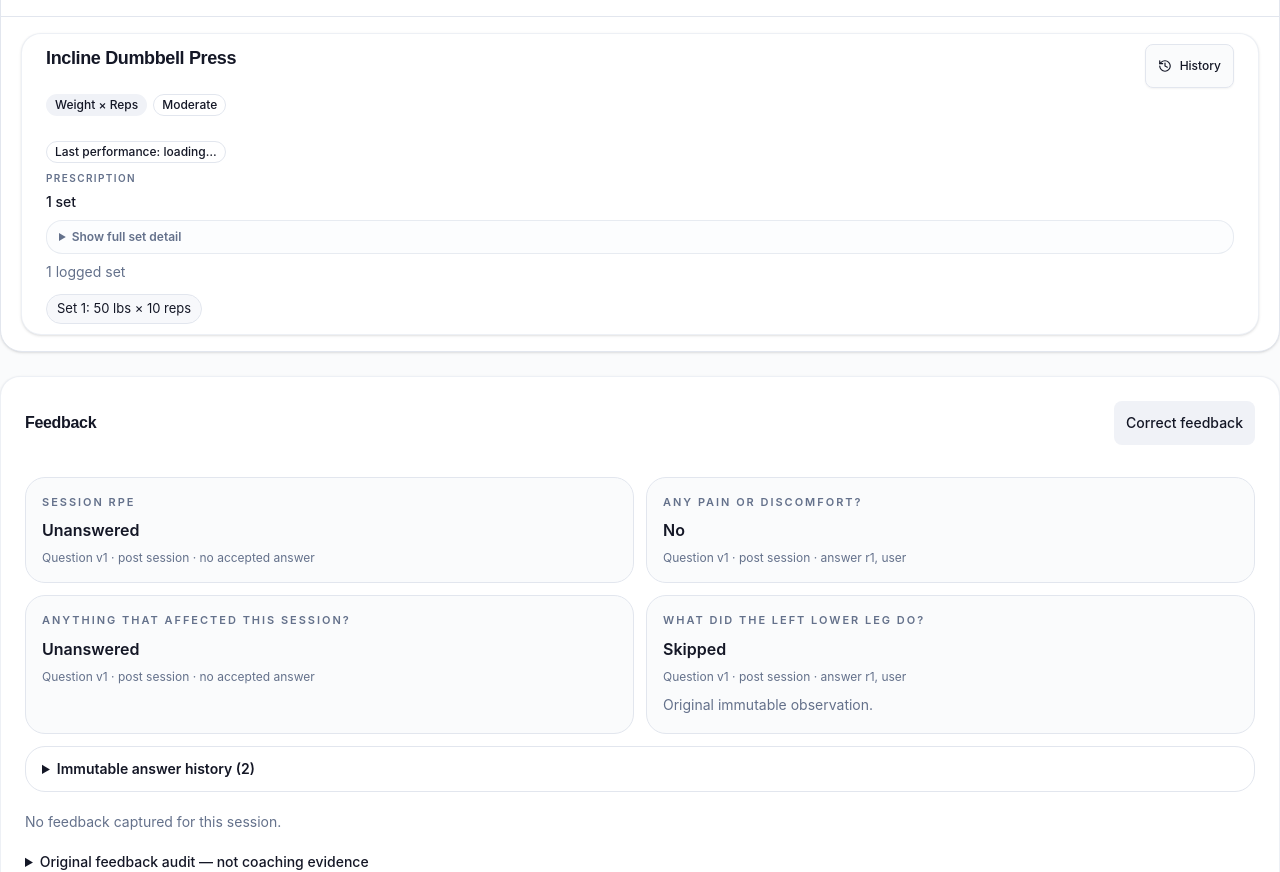
Test case: SessionDetail › renders exact native answer history and submits a feedback-only immutable correction
(page scrolled)
Expected: the text "What did the left lower leg do?" is shown, [663,613,925,627]
Expected: the text "Immutable answer history (2)" is shown, [25,746,1255,792]
Click the button "Correct feedback".
click(1184, 422)  # box [1114,400,1255,444]
(page scrolled)
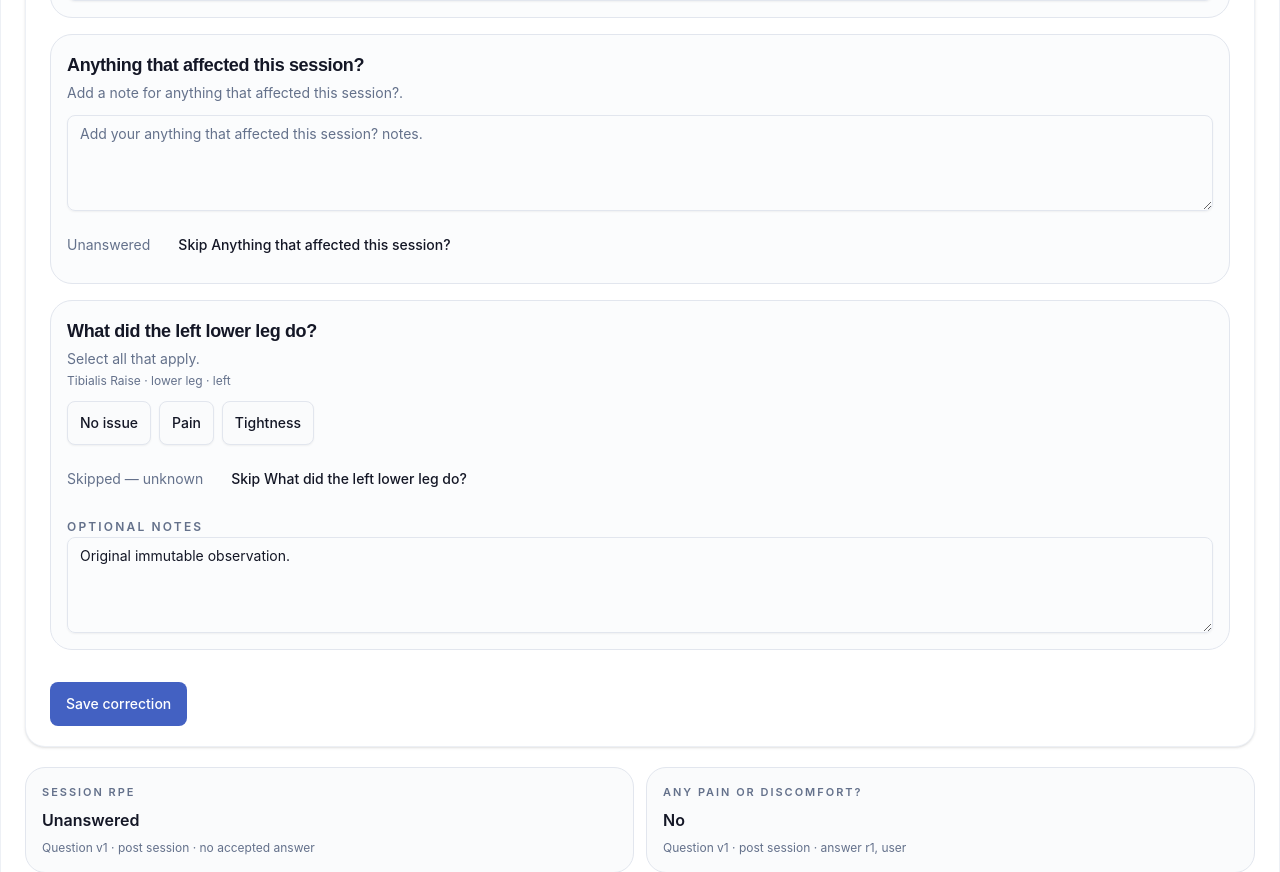
Click the button "Pain".
click(186, 422)  # box [159,400,214,444]
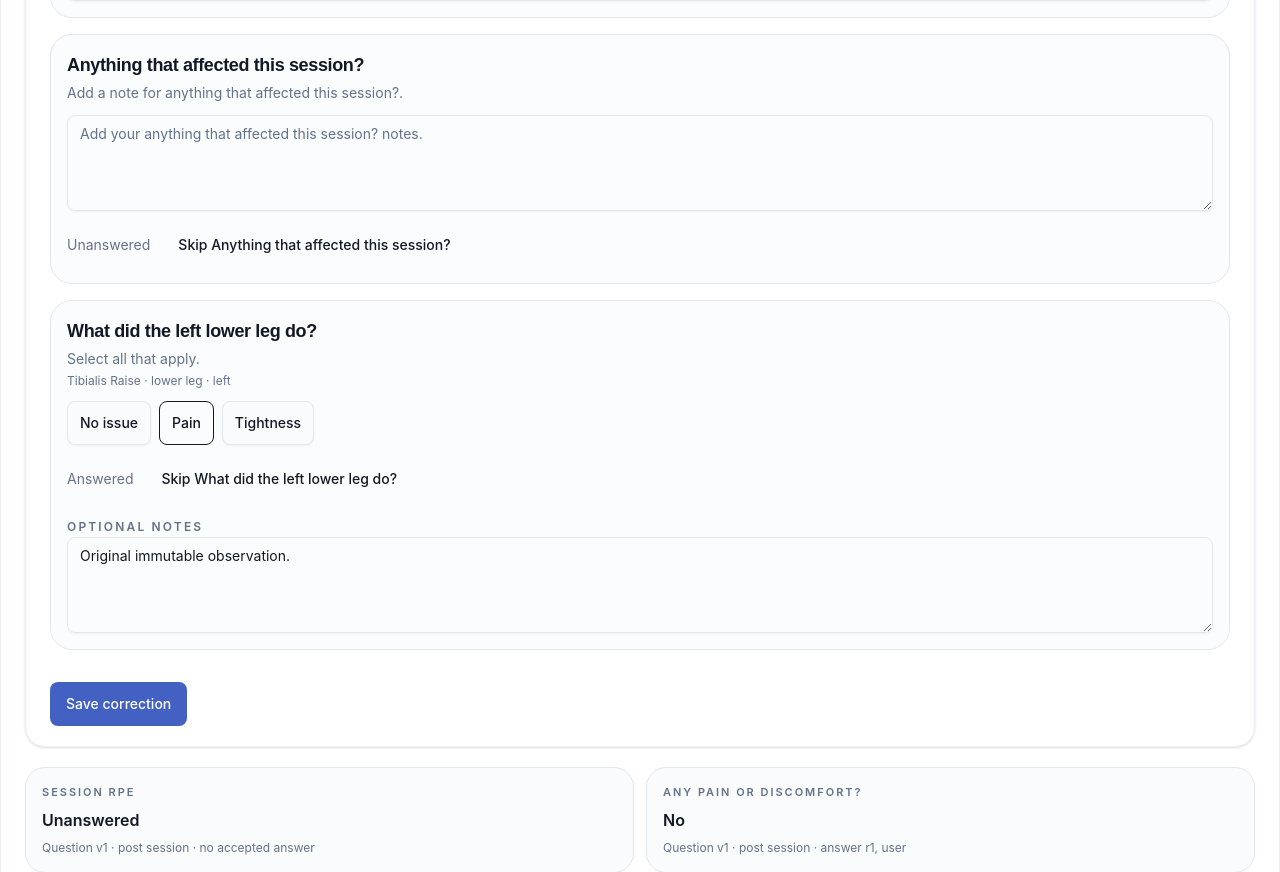
Click the button "Save correction".
click(119, 704)  # box [50,682,187,726]
(page scrolled)
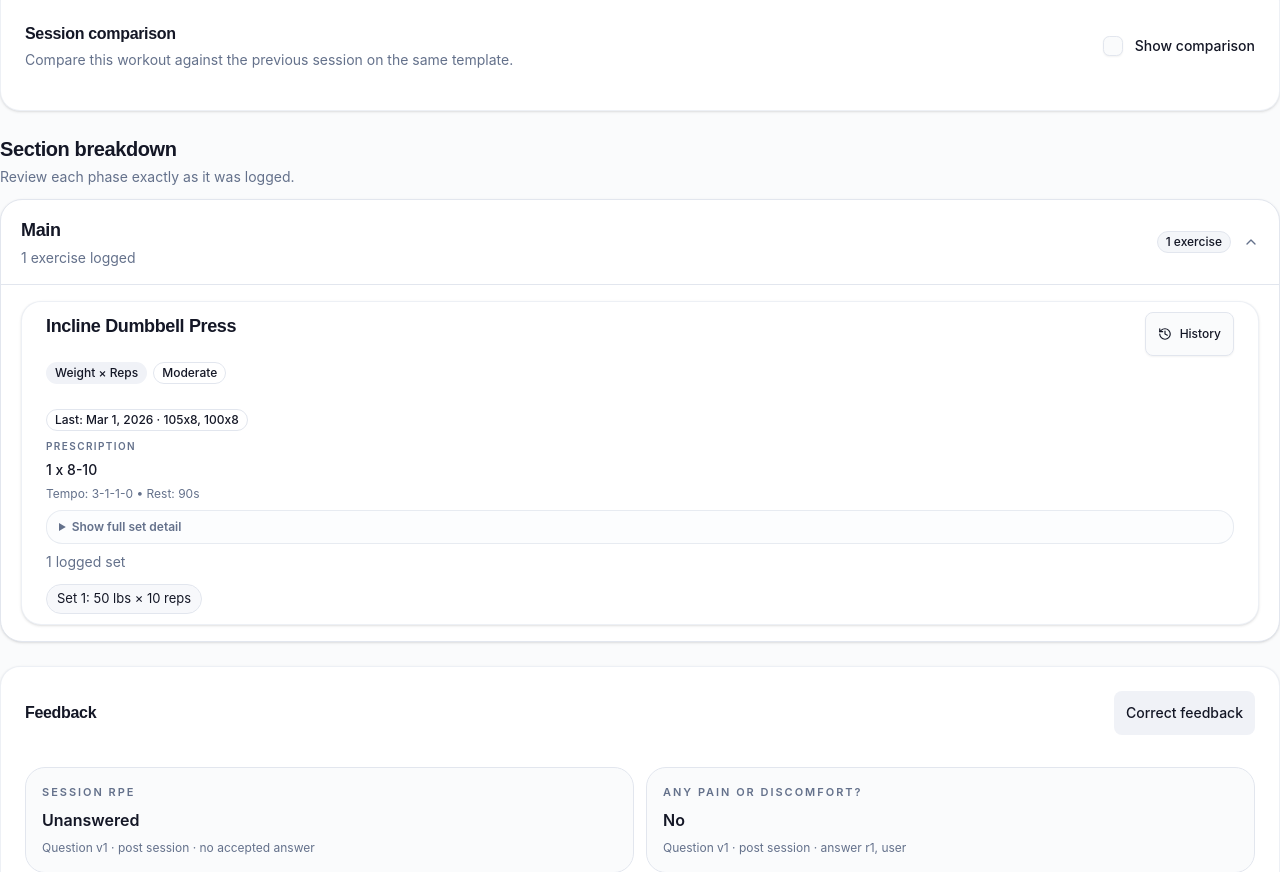
Result: the button "Save correction" is gone
